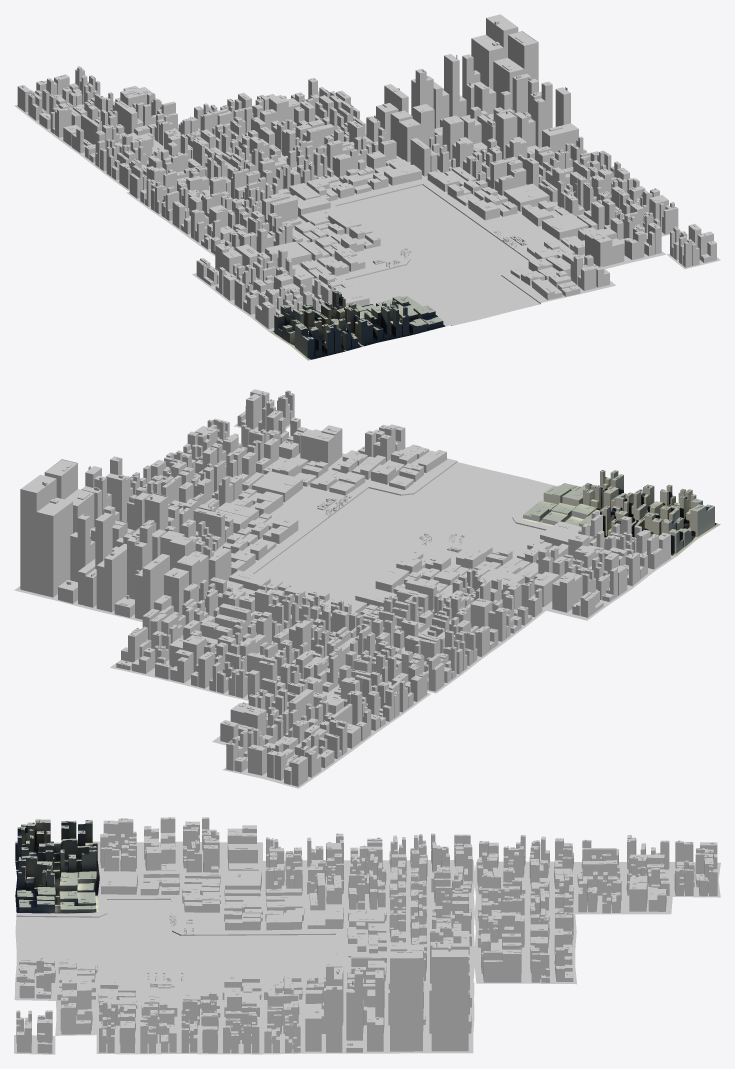
File: ciudad_21.DAE
3 views of the same model, one above another, from view 1: azimuth 30°, elevation 25°; view 2: azimuth 150°, elevation 25°; view 3: azimuth 270°, elevation 25° (orthographic). The views are drawn at different scales.
Parts seen in each view (by area): view 1: Object07, Object05, Object02, Object105, Object106, Object06, Object104, Object55, edificios_camara06, Object04, Object, Object03 (+90 smaller); view 2: Object07, Object105, Object05, Object103, Object104, Object102, Object133, Object112, Object122, Object108, Object49, Object132 (+86 smaller); view 3: Object07, Object05, Object105, Object106, Object107, Object02, Object110, Object60, Object64, Object124, Object55, Object132 (+96 smaller).
Part boxes in pixels (left/top/right/bottom): Object07: left=336, top=185, right=540, bottom=325; Object05: left=330, top=179, right=555, bottom=326; Object02: left=530, top=81, right=578, bottom=152; Object105: left=471, top=14, right=518, bottom=89; Object106: left=493, top=35, right=538, bottom=108; Object06: left=390, top=104, right=434, bottom=163; Object104: left=442, top=54, right=482, bottom=117; Object55: left=667, top=224, right=720, bottom=269; edificios_camara06: left=477, top=108, right=535, bottom=159; Object04: left=442, top=115, right=487, bottom=168; Object: left=290, top=320, right=344, bottom=360; Object03: left=410, top=134, right=455, bottom=178; Object07: left=254, top=462, right=556, bottom=600; Object105: left=14, top=474, right=72, bottom=600; Object05: left=245, top=459, right=559, bottom=601; Object103: left=93, top=523, right=152, bottom=619; Object104: left=55, top=509, right=112, bottom=609; Object102: left=131, top=553, right=188, bottom=621; Object133: left=262, top=738, right=324, bottom=788; Object112: left=187, top=642, right=246, bottom=695; Object122: left=344, top=677, right=402, bottom=732; Object108: left=110, top=626, right=170, bottom=676; Object49: left=401, top=639, right=459, bottom=693; Object132: left=223, top=727, right=277, bottom=778; Object07: left=15, top=900, right=336, bottom=979; Object05: left=16, top=895, right=346, bottom=1000; Object105: left=427, top=947, right=473, bottom=1053; Object106: left=385, top=951, right=426, bottom=1053; Object107: left=344, top=968, right=385, bottom=1053; Object02: left=303, top=962, right=344, bottom=1053; Object110: left=474, top=940, right=528, bottom=983; Object60: left=138, top=1010, right=179, bottom=1054; Object64: left=220, top=1011, right=261, bottom=1054; Object124: left=575, top=871, right=624, bottom=914; Object55: left=14, top=1010, right=55, bottom=1054; Object132: left=670, top=857, right=720, bottom=897.
Bounding box in the file's own units: 14657 × 20540 × 3142.
